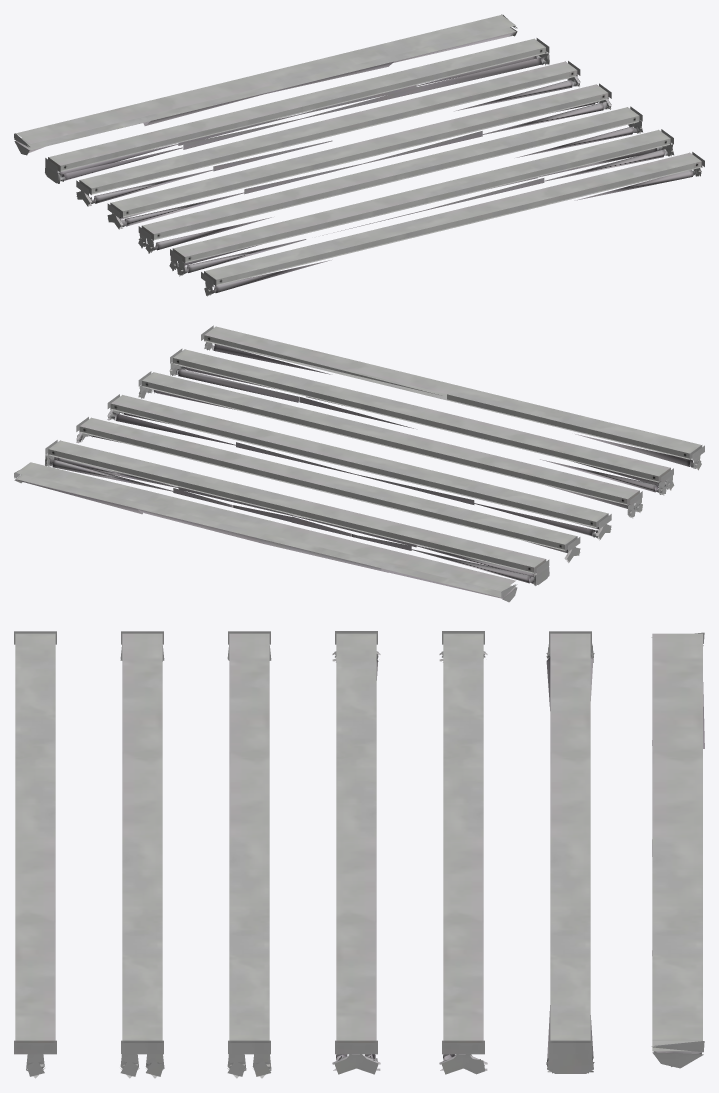
Rendered from mounted_fluorescent_lights.glb.
The picture shows the model from 3 angles, top to bottom: view 1: azimuth 30°, elevation 25°; view 2: azimuth 150°, elevation 25°; view 3: azimuth 270°, elevation 25°; orthographic projection. The views are drawn at different scales.
Visible parts, largest first — view 1: mounted_fluorescent_lights_f, mounted_fluorescent_lights_d, mounted_fluorescent_lights_b, mounted_fluorescent_lights_g, mounted_fluorescent_lights_e, mounted_fluorescent_lights_c, mounted_fluorescent_lights_a; view 2: mounted_fluorescent_lights_f, mounted_fluorescent_lights_g, mounted_fluorescent_lights_b, mounted_fluorescent_lights_d, mounted_fluorescent_lights_a, mounted_fluorescent_lights_c, mounted_fluorescent_lights_e; view 3: mounted_fluorescent_lights_g, mounted_fluorescent_lights_f, mounted_fluorescent_lights_d, mounted_fluorescent_lights_c, mounted_fluorescent_lights_b, mounted_fluorescent_lights_e, mounted_fluorescent_lights_a.
Boxes of the visible parts, <box> form: mounted_fluorescent_lights_f: <box>45,38,549,183</box>; mounted_fluorescent_lights_d: <box>107,83,611,229</box>; mounted_fluorescent_lights_b: <box>169,129,673,276</box>; mounted_fluorescent_lights_g: <box>14,14,517,155</box>; mounted_fluorescent_lights_e: <box>76,61,580,206</box>; mounted_fluorescent_lights_c: <box>138,106,642,253</box>; mounted_fluorescent_lights_a: <box>201,152,704,296</box>; mounted_fluorescent_lights_f: <box>45,440,549,585</box>; mounted_fluorescent_lights_g: <box>14,462,517,602</box>; mounted_fluorescent_lights_b: <box>169,348,674,495</box>; mounted_fluorescent_lights_d: <box>107,394,611,540</box>; mounted_fluorescent_lights_a: <box>201,325,704,470</box>; mounted_fluorescent_lights_c: <box>138,371,642,518</box>; mounted_fluorescent_lights_e: <box>76,417,580,562</box>; mounted_fluorescent_lights_g: <box>651,632,704,1068</box>; mounted_fluorescent_lights_f: <box>546,631,594,1073</box>; mounted_fluorescent_lights_d: <box>332,631,380,1074</box>; mounted_fluorescent_lights_c: <box>227,631,271,1078</box>; mounted_fluorescent_lights_b: <box>120,631,164,1078</box>; mounted_fluorescent_lights_e: <box>439,631,487,1074</box>; mounted_fluorescent_lights_a: <box>14,631,56,1078</box>.
Bounding box in the file's own units: 0.9122 × 0.0365 × 0.6457.
2 materials, 2 textured.
